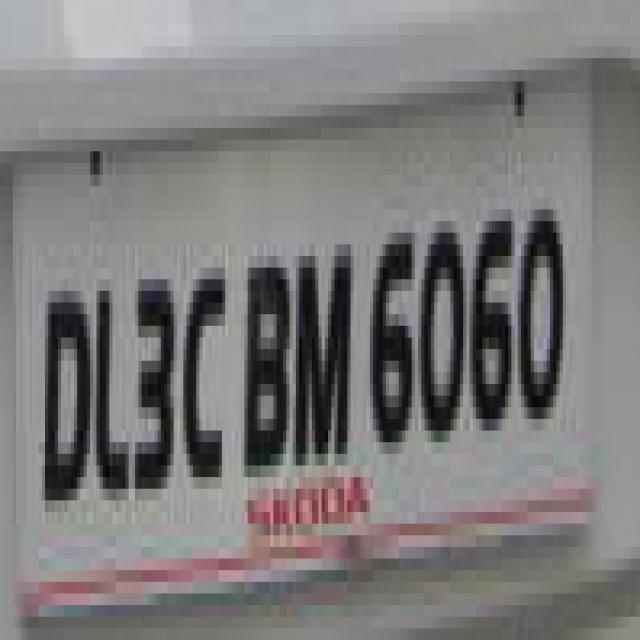license_plate: (25, 34, 640, 558)
